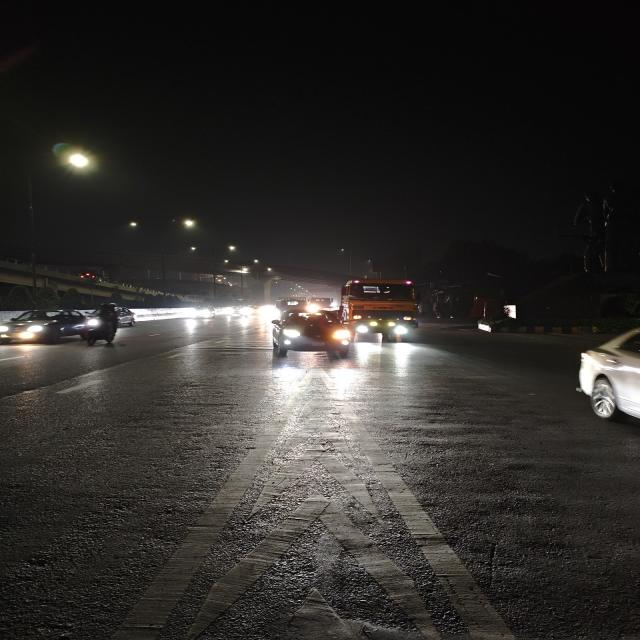car: (567, 316, 640, 436), (262, 308, 358, 362), (1, 308, 87, 346)
motorcycle: (73, 303, 128, 349)
truck: (338, 276, 428, 342)
